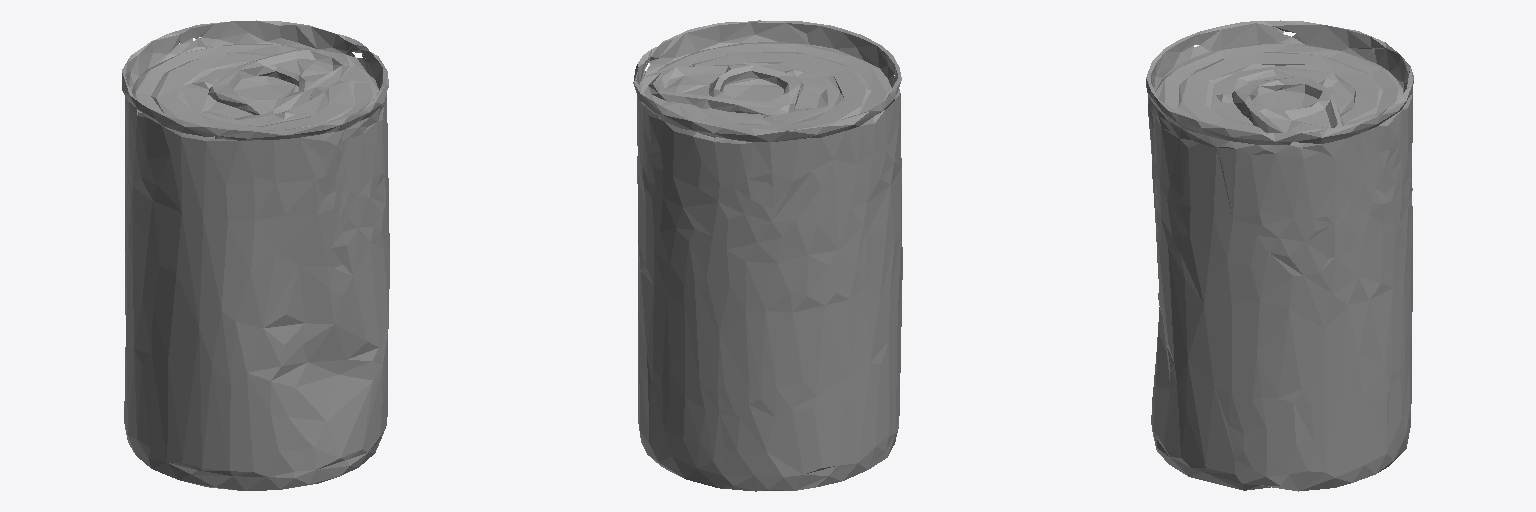
URDF robot description (tomato_soup_can):
<?xml version="1.0"?>
<!-- created with Phobos 0.7 -->
  <robot name="tomato_soup_can">

    <link name="tomato_soup_can">
      <inertial>
        <origin xyz="0 0 0" rpy="0 0 0"/>
        <mass value="0.149"/>
        <inertia ixx="0.00043" ixy="0" ixz="0" iyy="0.00027" iyz="0" izz="0.00044"/>
      </inertial>
      <visual name="visual_tomato_soup_can">
        <origin xyz="0 0 0" rpy="1.5708 0 0"/>
        <geometry>
          <mesh filename="meshes/obj/tomato_soup_can.obj" scale="1.0 1.0 1.0"/>
        </geometry>
        <material name="white"/>
      </visual>
      <collision name="collision_tomato_soup_can">
        <origin xyz="0 0 0" rpy="1.5708 0 0"/>
        <geometry>
          <mesh filename="meshes/obj/tomato_soup_can.obj" scale="1.0 1.0 1.0"/>
        </geometry>
      </collision>
    </link>

    <material name="white">
      <color rgba="0.64 0.64 0.64 1.0"/>
      <texture filename="meshes/obj/texture_map.png"/>
    </material>

  </robot>

--- What the picture shows (computed from the rendered views, not written in the file) ---
3 views of the same robot in one strip: view 1: azimuth 30°, elevation 25°; view 2: azimuth 150°, elevation 25°; view 3: azimuth 270°, elevation 25° (orthographic).
Robot: tomato_soup_can — 1 links, 0 joints (none); root link tomato_soup_can; default pose: every joint at zero.
Links seen in each view (by area): view 1: tomato_soup_can; view 2: tomato_soup_can; view 3: tomato_soup_can.
Link boxes in pixels (x1=…): tomato_soup_can: x1=122, y1=20, x2=389, y2=490; tomato_soup_can: x1=633, y1=20, x2=902, y2=491; tomato_soup_can: x1=1146, y1=20, x2=1413, y2=491.
Size in the robot's own frame: 0.0679 by 0.0677 by 0.1018 metres.
Meshes: 1 distinct files referenced, 1 mesh visuals loaded (1 OBJ).
